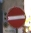No entry: (6, 6, 26, 28)
